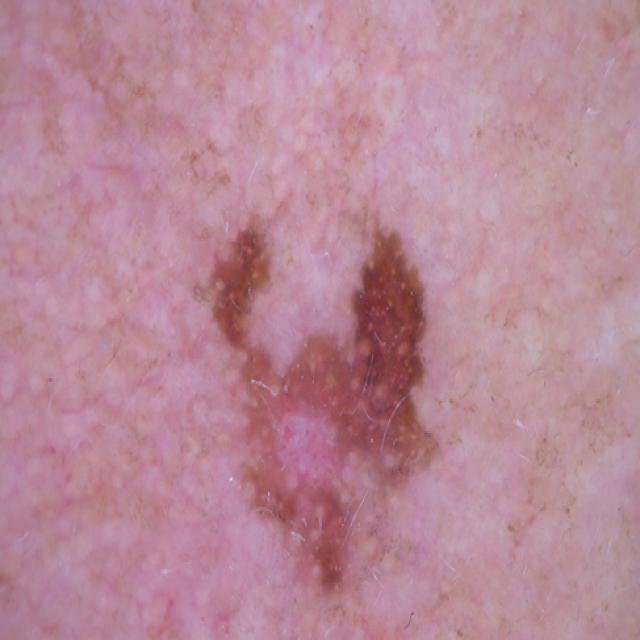Keratosis: (190, 165, 516, 604)
